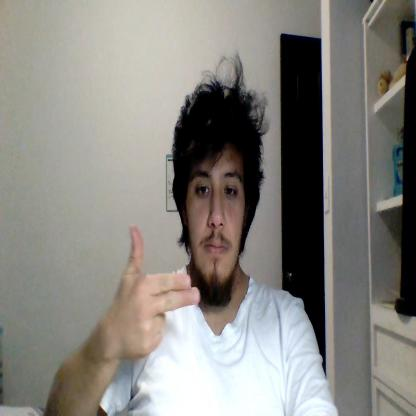H: (113, 225, 200, 357)
